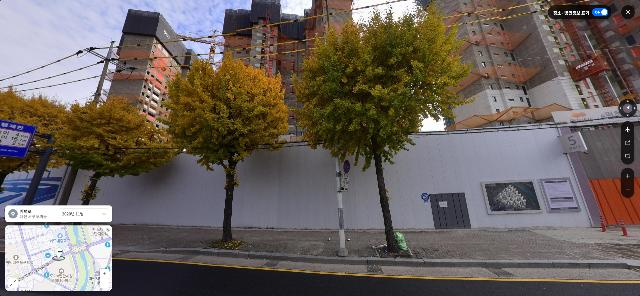ginkgo: (289, 2, 476, 253), (161, 51, 288, 242), (61, 93, 178, 206), (1, 84, 73, 183)
